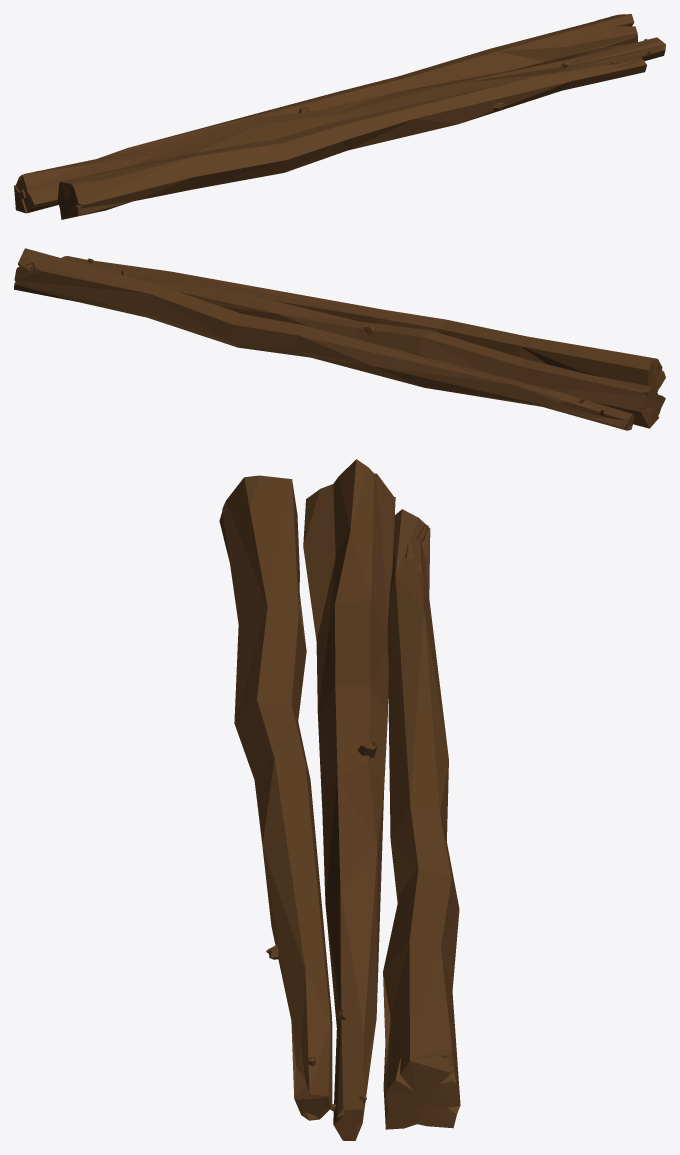
File: SM_Tree_Spruce_Log_Pile_A.fbx
The picture shows the model from 3 angles, top to bottom: view 1: azimuth 30°, elevation 25°; view 2: azimuth 150°, elevation 25°; view 3: azimuth 270°, elevation 25°; orthographic projection. The views are drawn at different scales.
Parts seen in each view (by area): view 1: tree-spruce-log-pile-a; view 2: tree-spruce-log-pile-a; view 3: tree-spruce-log-pile-a.
Boxes of the visible parts, x1=… form: tree-spruce-log-pile-a: x1=14, y1=14, x2=665, y2=219; tree-spruce-log-pile-a: x1=14, y1=248, x2=665, y2=430; tree-spruce-log-pile-a: x1=219, y1=459, x2=460, y2=1140.
Size of the model in its own units: 8.15 by 0.5696 by 1.35.
